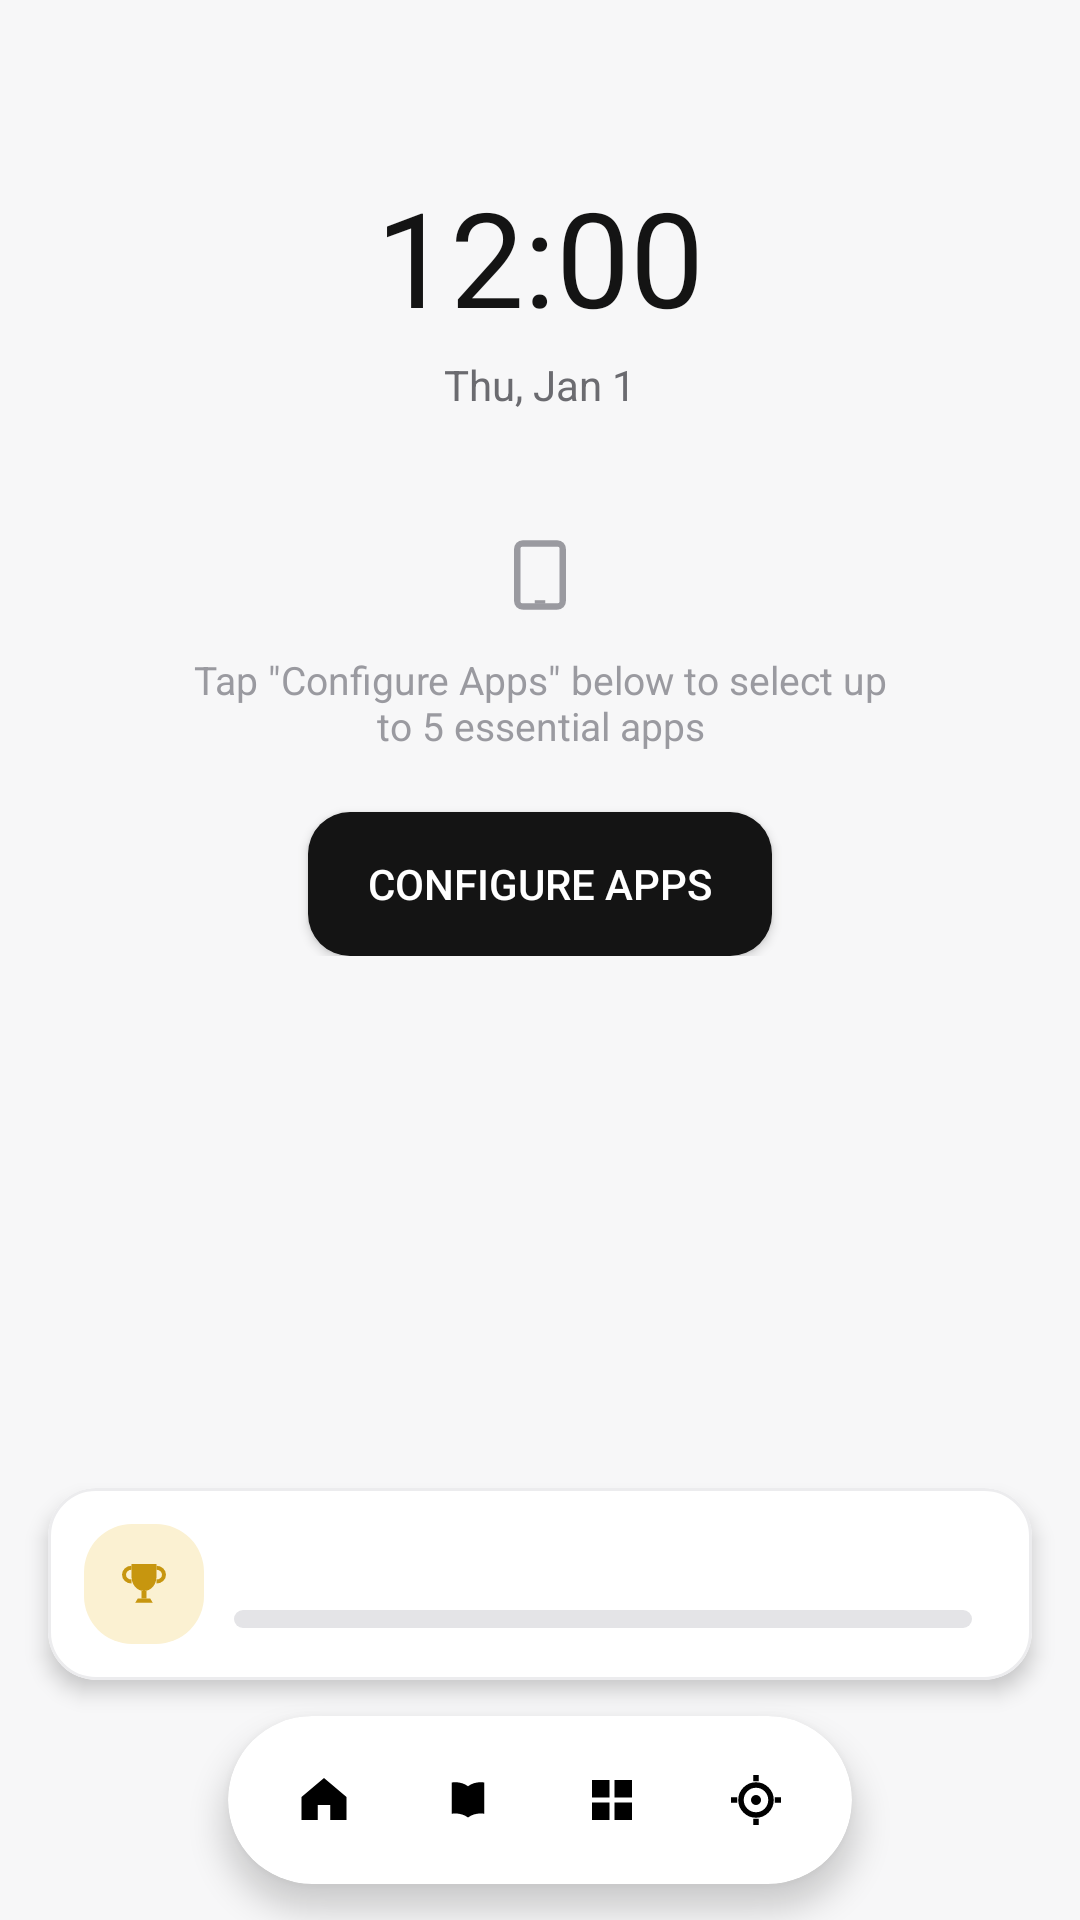

Icons on this 1080*1920 Android screen, each with the point to tap as [x,y]:
book: [468,1800]
grid: [612,1800]
home: [324,1799]
phone: [540,575]
trophy: [144,1583]
